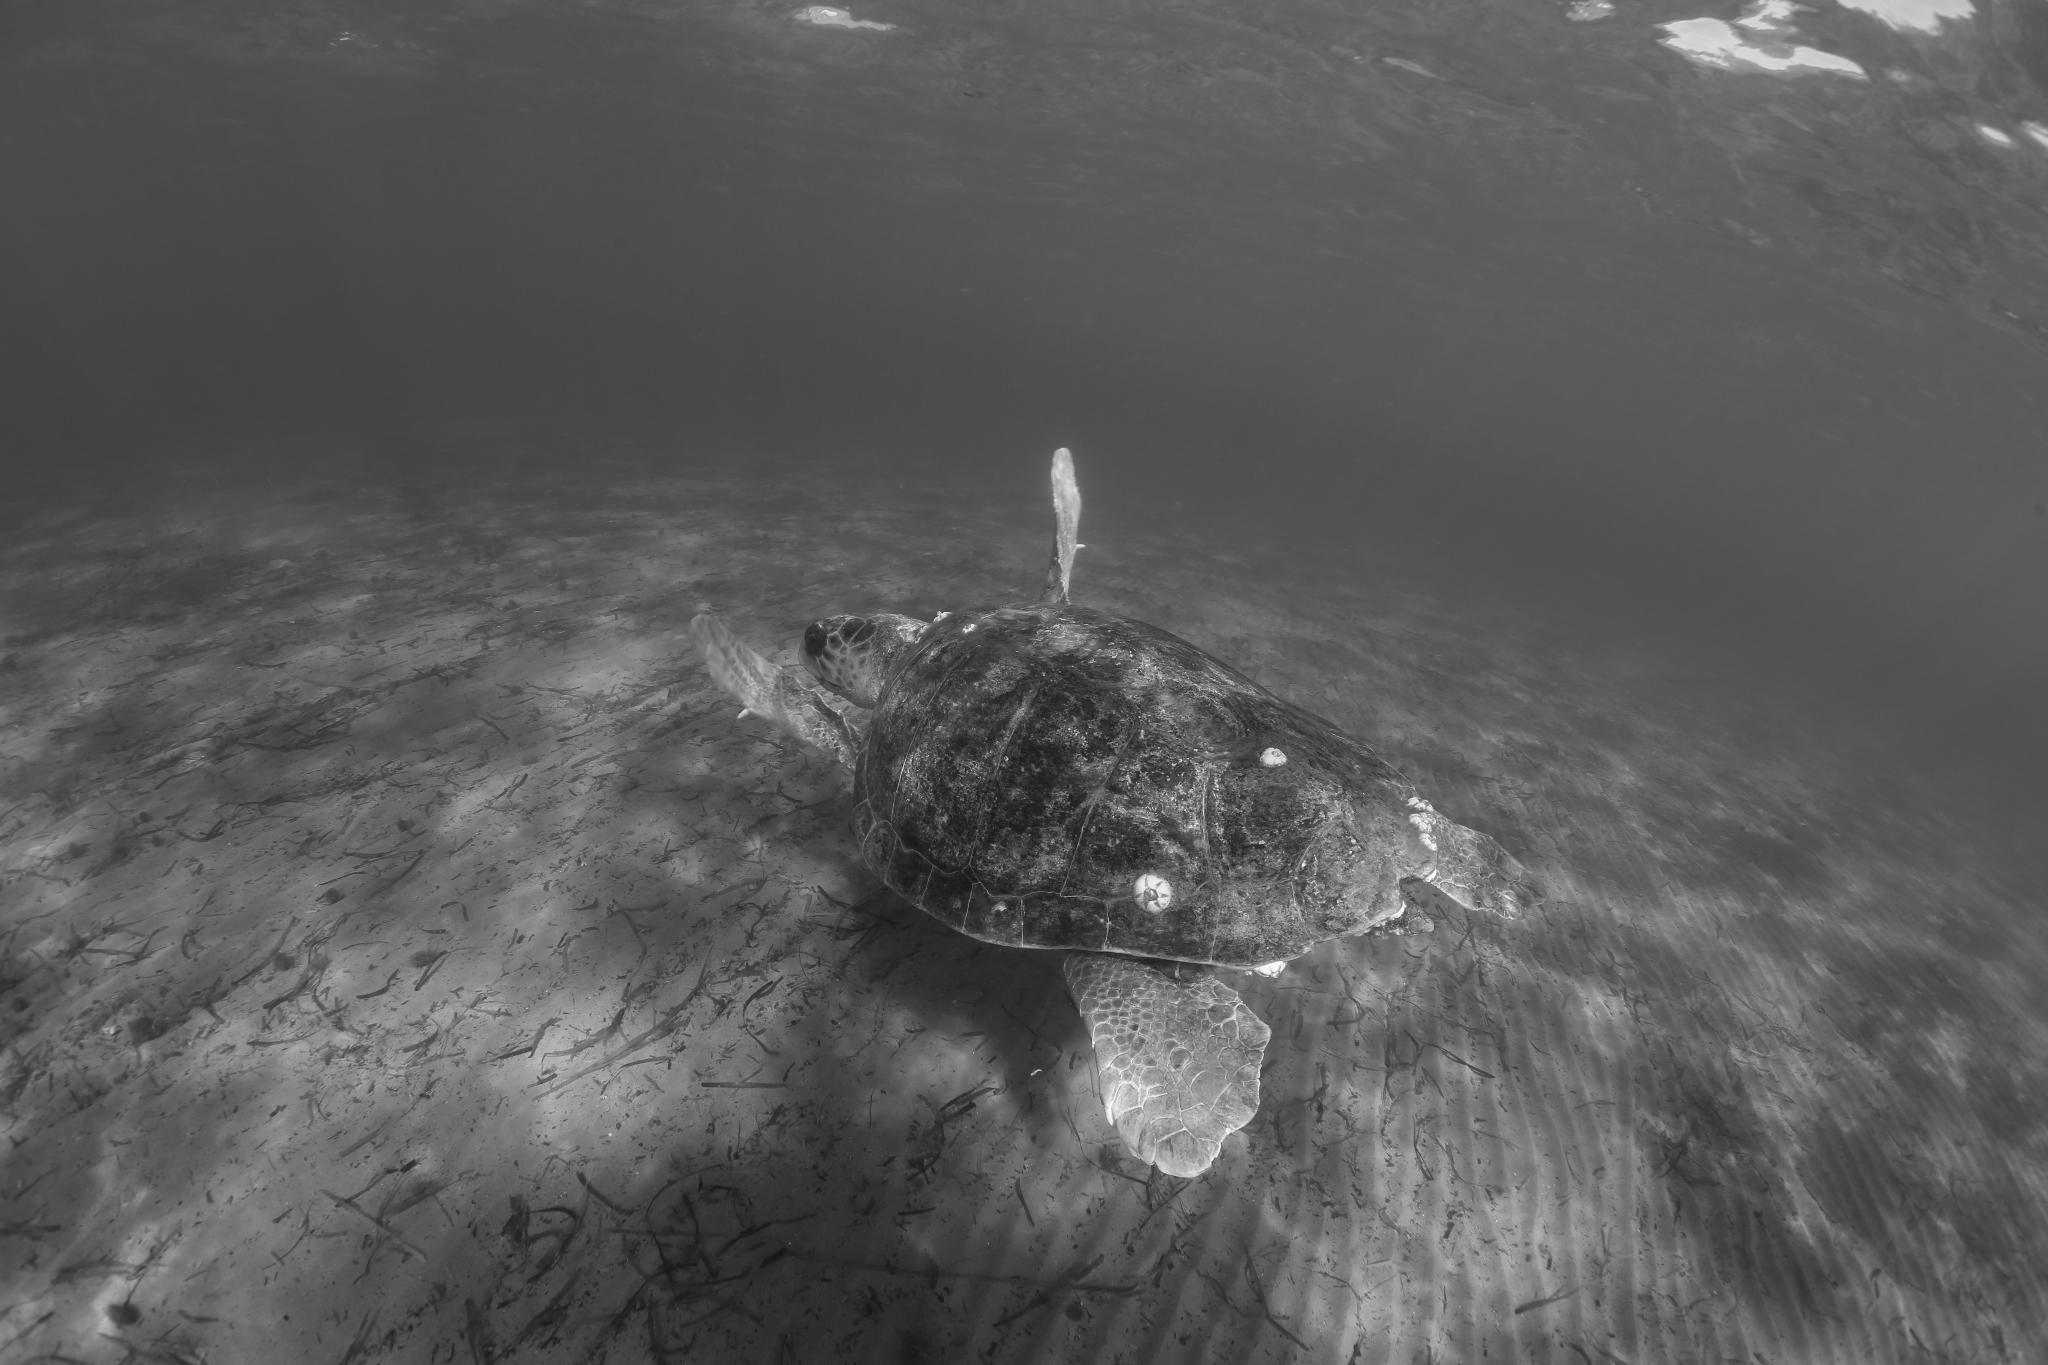Head: (801, 614, 927, 708)
